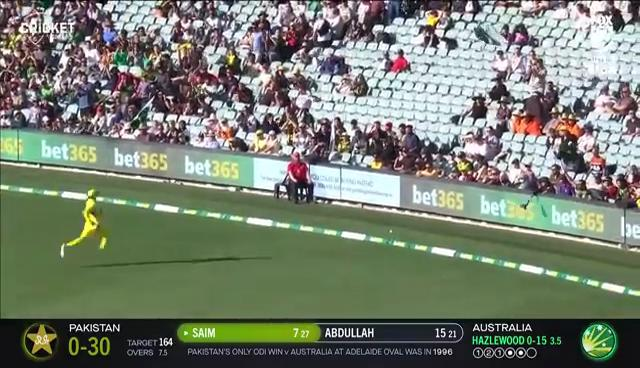ball: (386, 228, 395, 234)
